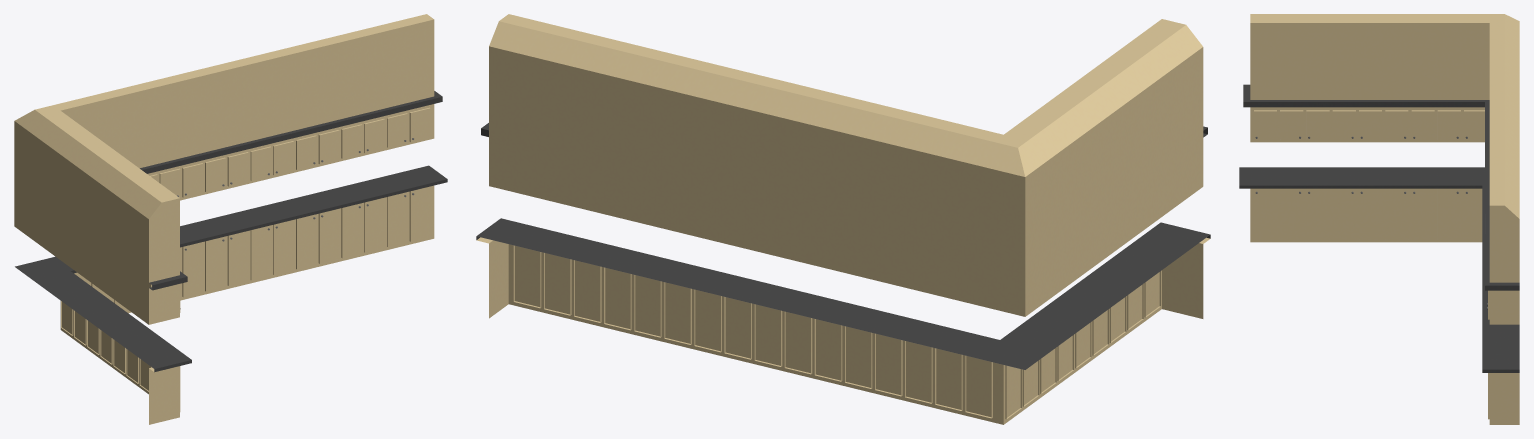
Rendered from Science_Shelves.fbx.
3 renders of one model, left to right at view 1: azimuth 30°, elevation 25°; view 2: azimuth 150°, elevation 25°; view 3: azimuth 270°, elevation 25°, orthographic. The views are drawn at different scales.
Parts seen in each view (by area): view 1: Science_Shelves; view 2: Science_Shelves; view 3: Science_Shelves.
Boxes of the visible parts, x1,y1,x2,y2 form: Science_Shelves: (14, 14, 447, 424); Science_Shelves: (476, 14, 1210, 424); Science_Shelves: (1239, 14, 1519, 424).
Bounding box in the file's own units: 2189 × 1106 × 1280.
